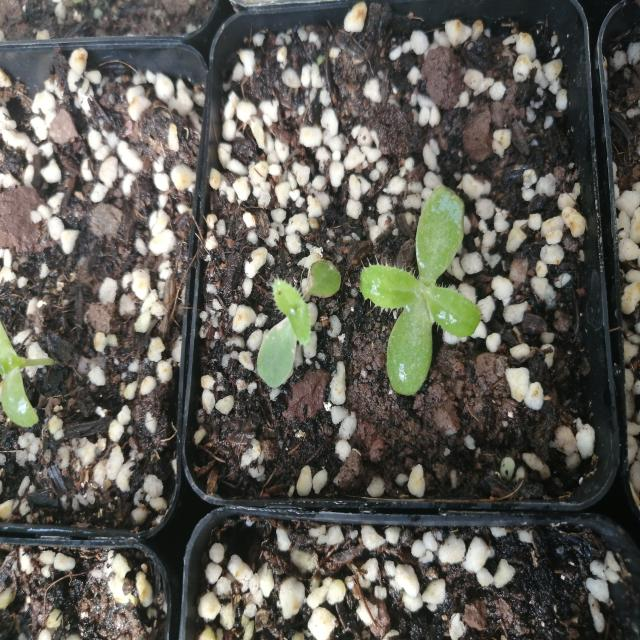field_thistle: (353, 168, 513, 406), (241, 222, 344, 394)
